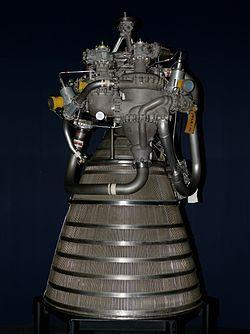thruster: (39, 139, 207, 322)
